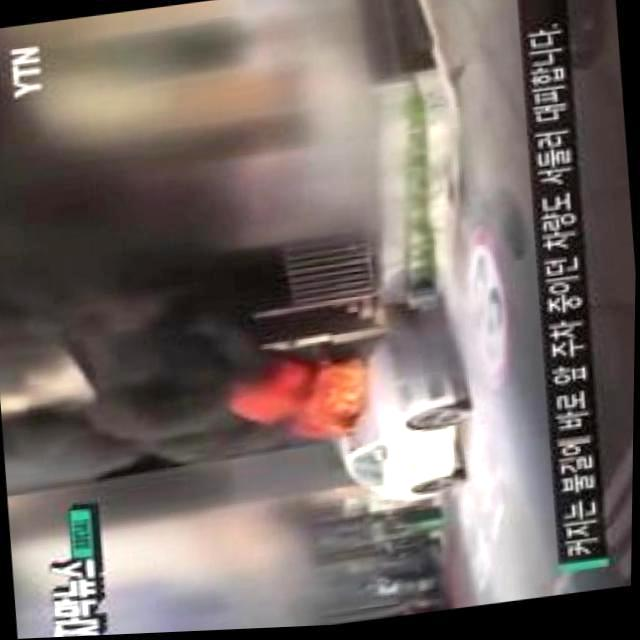fire: (249, 355, 371, 437)
